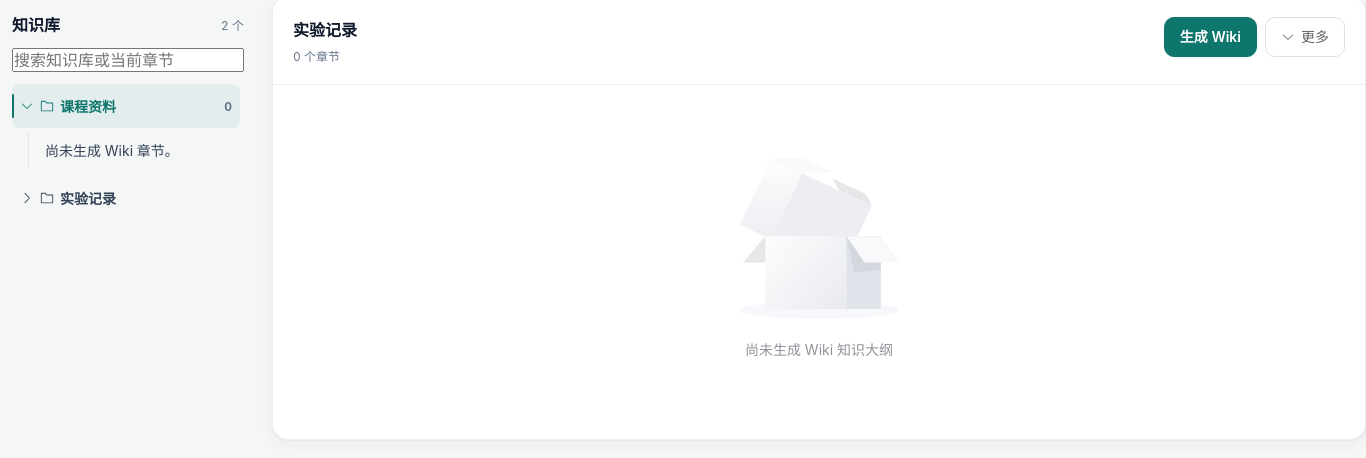
在知识库下展开 Wiki 章节，搜索并切换正文
Click the button "实验记录": click(126, 198) [12,176,240,220]
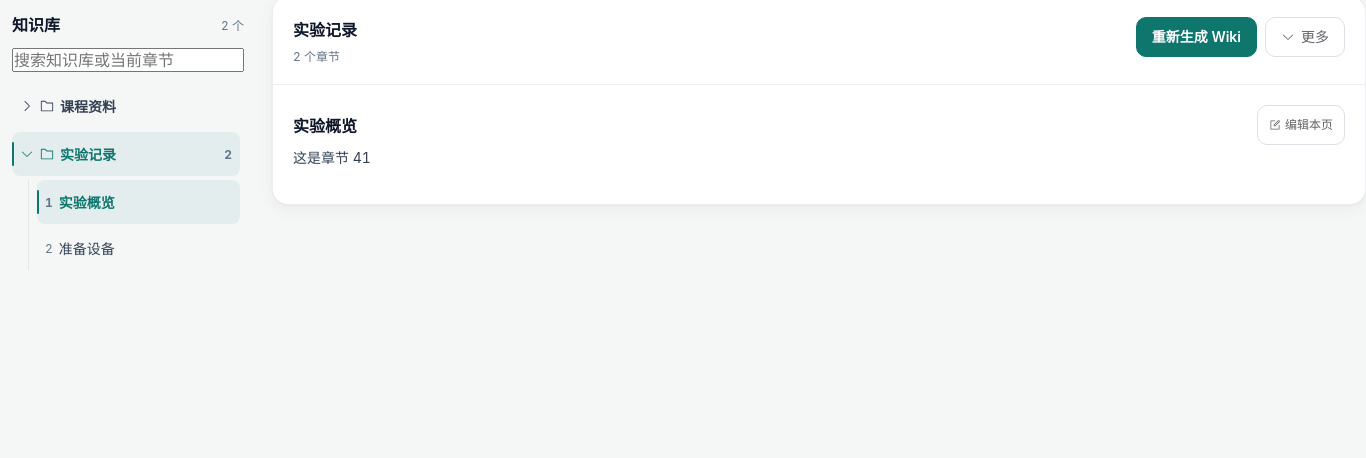
Expected: the heading "实验记录" is shown, [293,17,357,41]
Now the button "实验记录 2" is expanded
Click the button "实验记录 2": click(126, 154) [12,132,240,176]
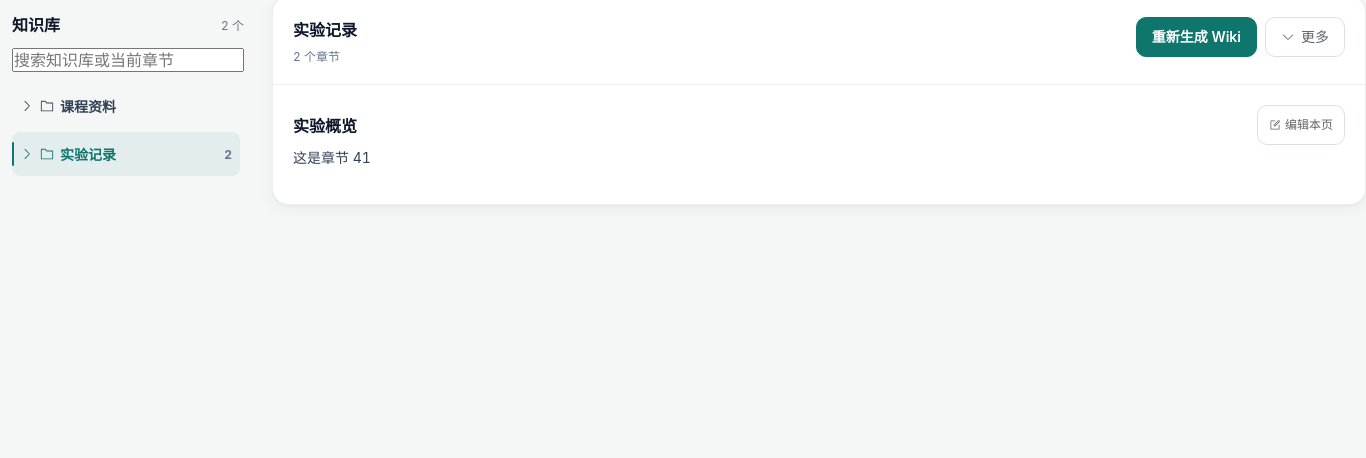
Now the element with class "md-body" reads "这是章节 41", box [293,149,371,166]
In the search field: (128, 60) [12,48,244,72], type "设备"
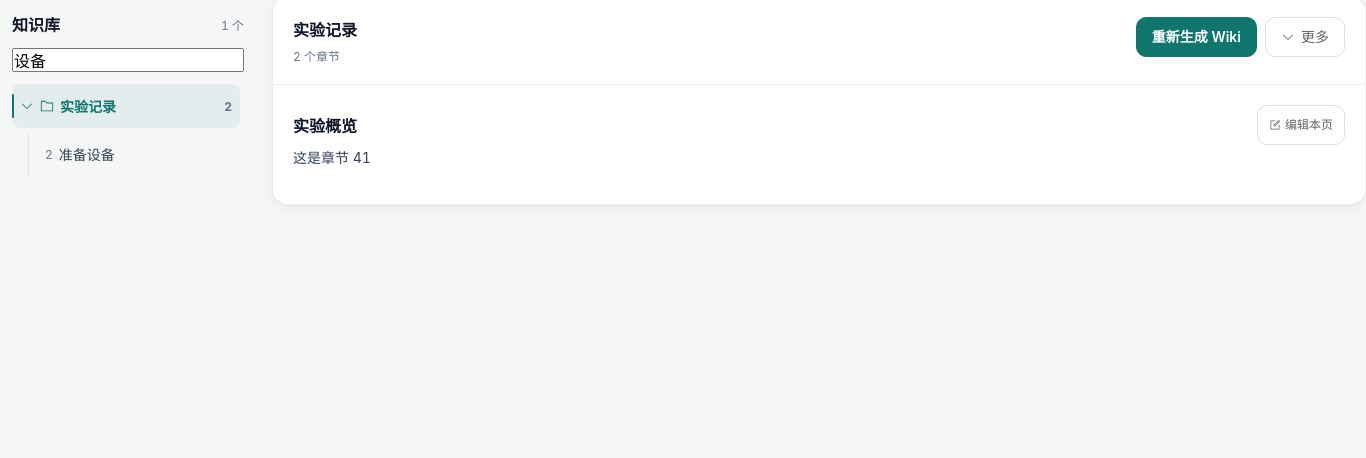
Click the button "2 准备设备": click(138, 154) [37,132,240,176]
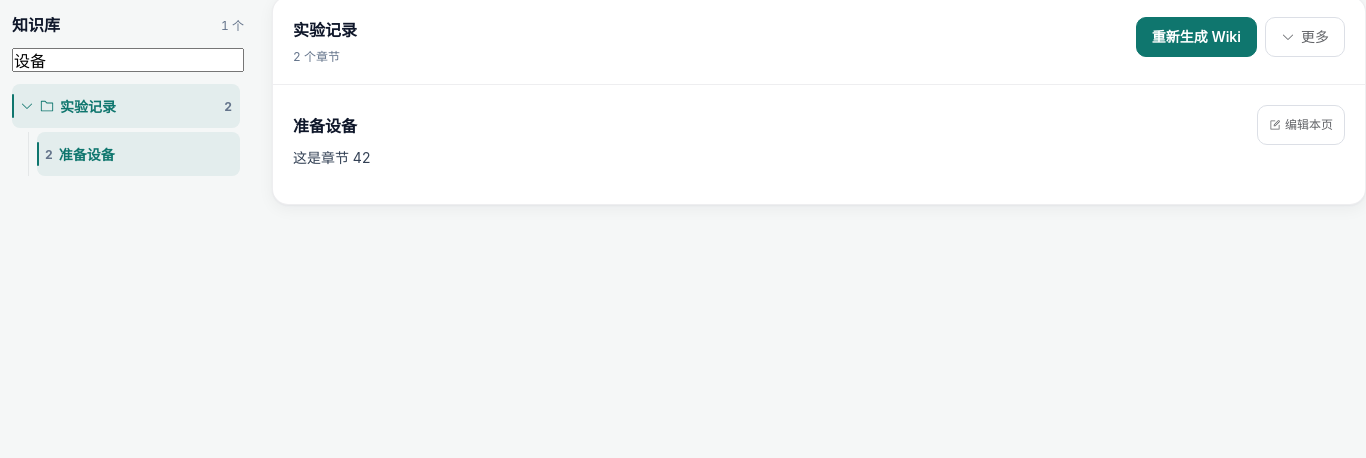
Now the button "2 准备设备" is shown, box [37,132,240,176]
Now the element with class "md-body" reads "这是章节 42", box [293,149,371,166]
